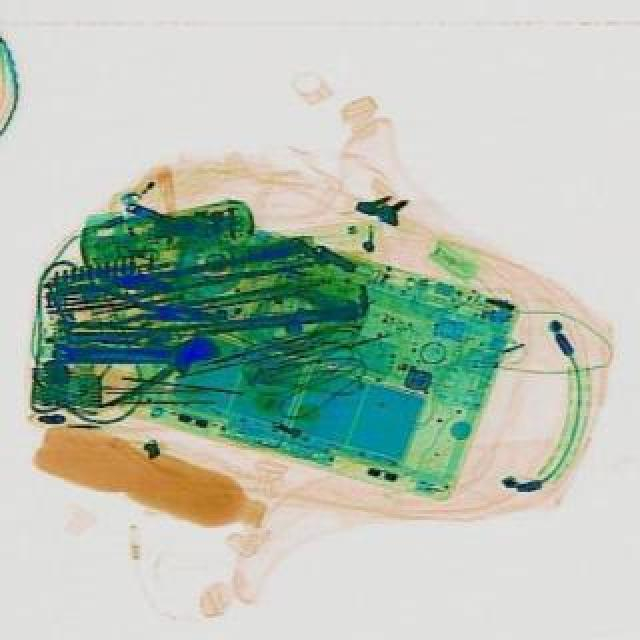wrench: (60, 280, 218, 338)
